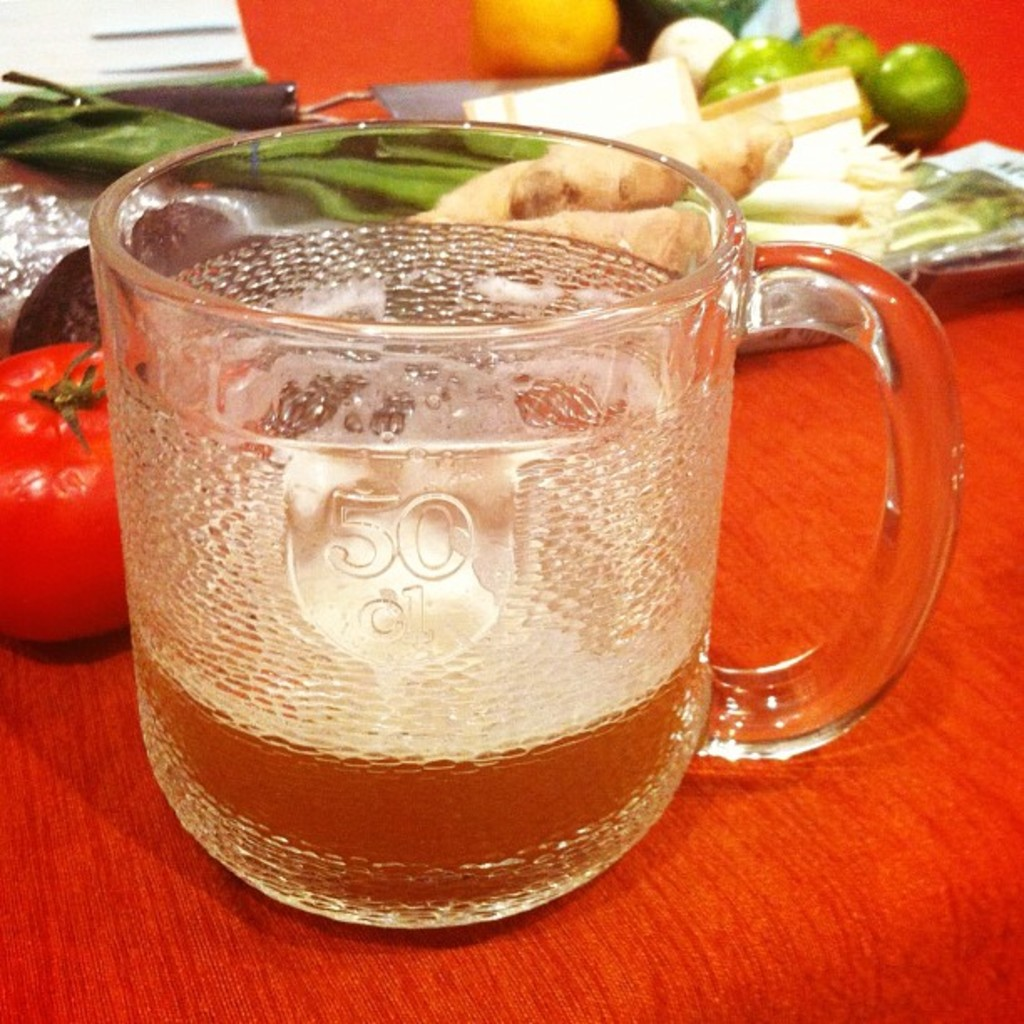Tomato: (0, 333, 129, 642)
